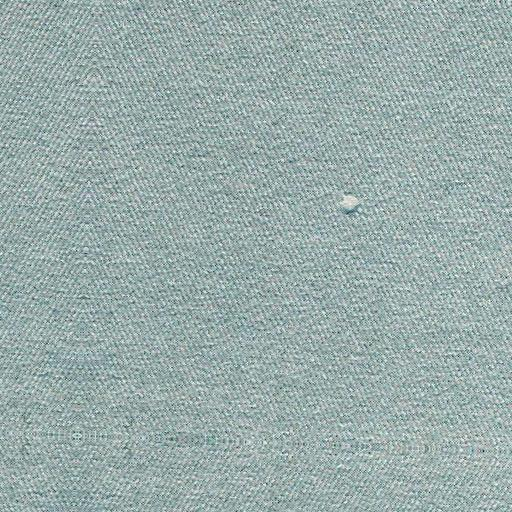knot: (332, 179, 373, 222)
